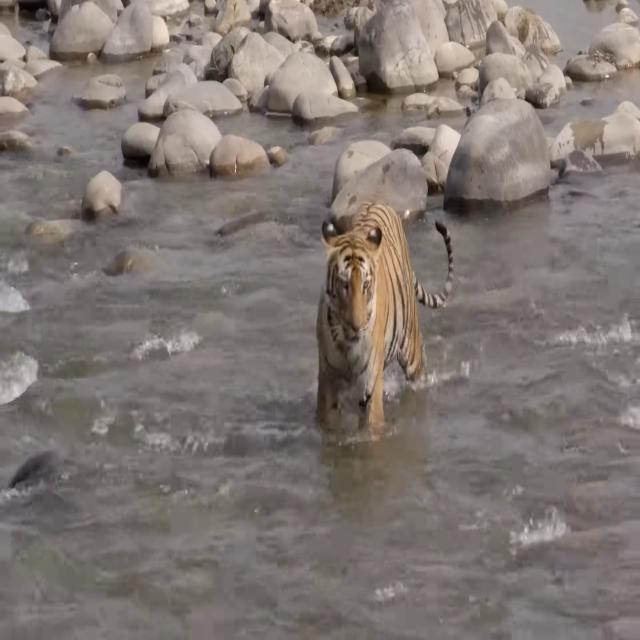tiger: (317, 199, 454, 428)
